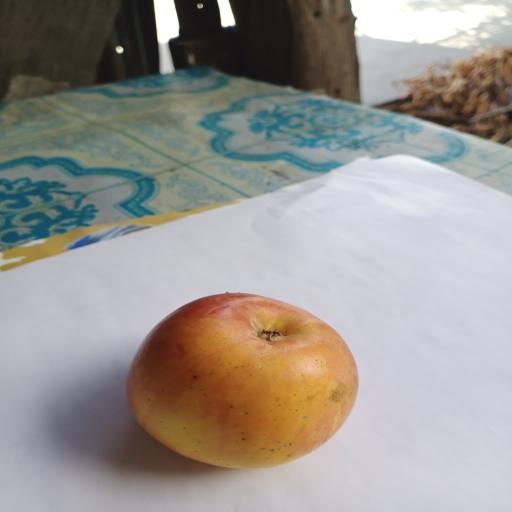apple-ripe: (112, 285, 371, 476)
